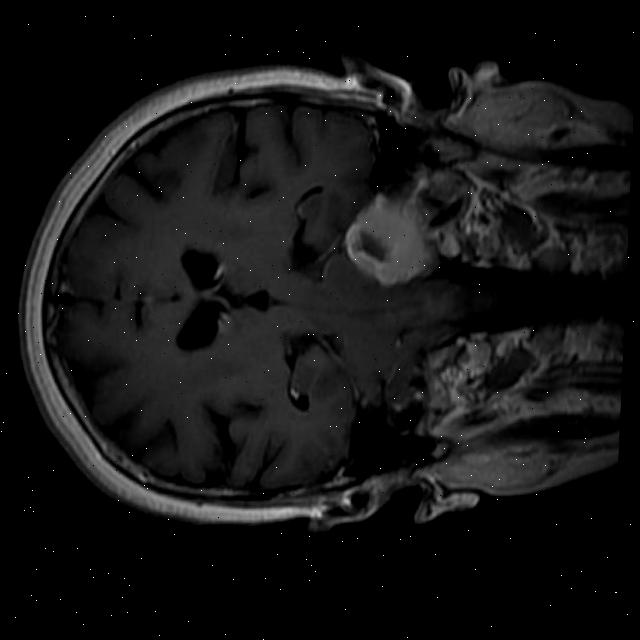Meningioma: (341, 186, 446, 287)
